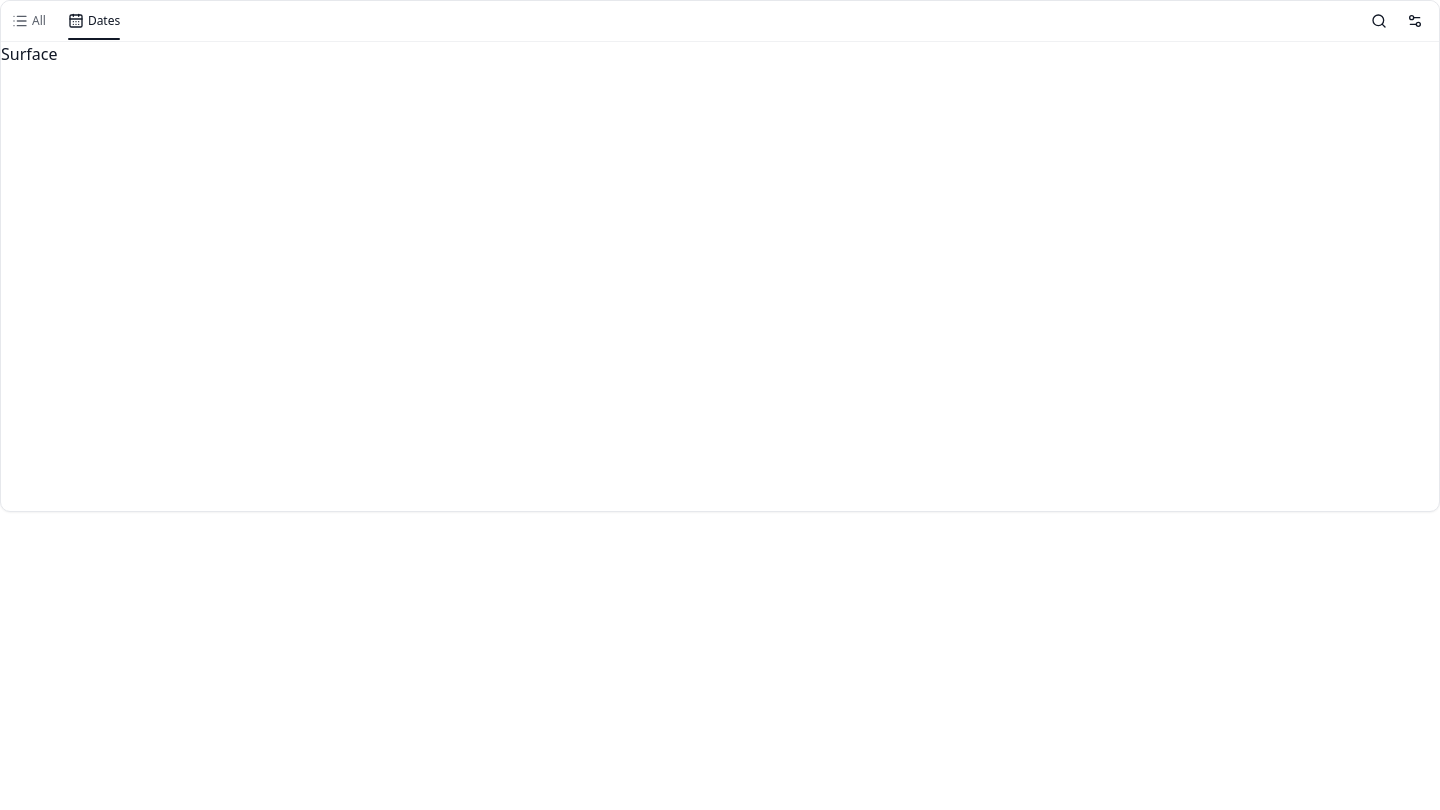
Test case: DatabaseViews › renders view-specific settings with user-facing labels
This screenshot has width=1440, height=810.
Click the button named "View settings for Dates".
click(1415, 21)  # box [1399,5,1431,37]
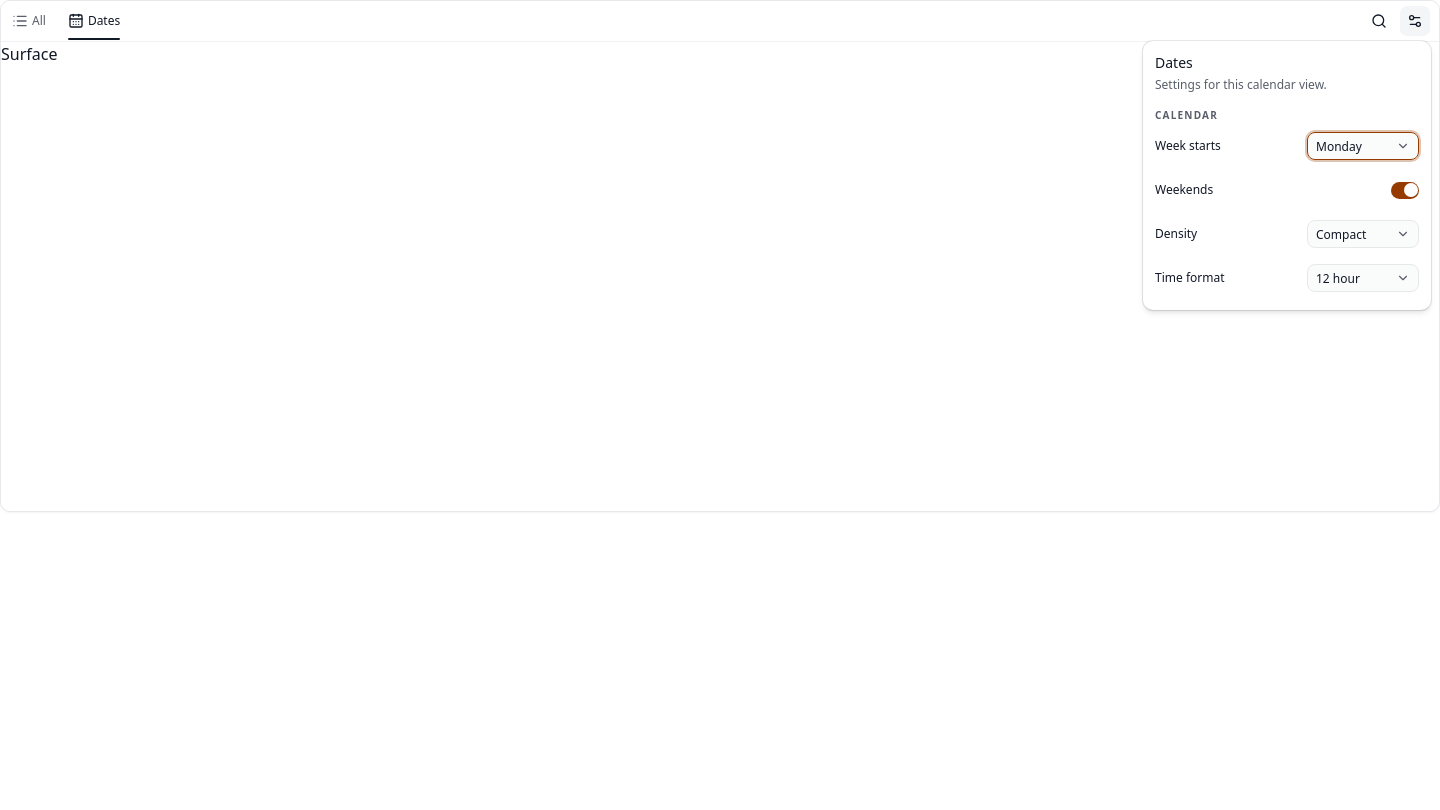
Expected: the text "Monday" is shown, [1316,138,1362,155]
Expected: the text "Compact" is shown, [1316,226,1366,243]
Expected: the text "12 hour" is shown, [1316,270,1360,287]
